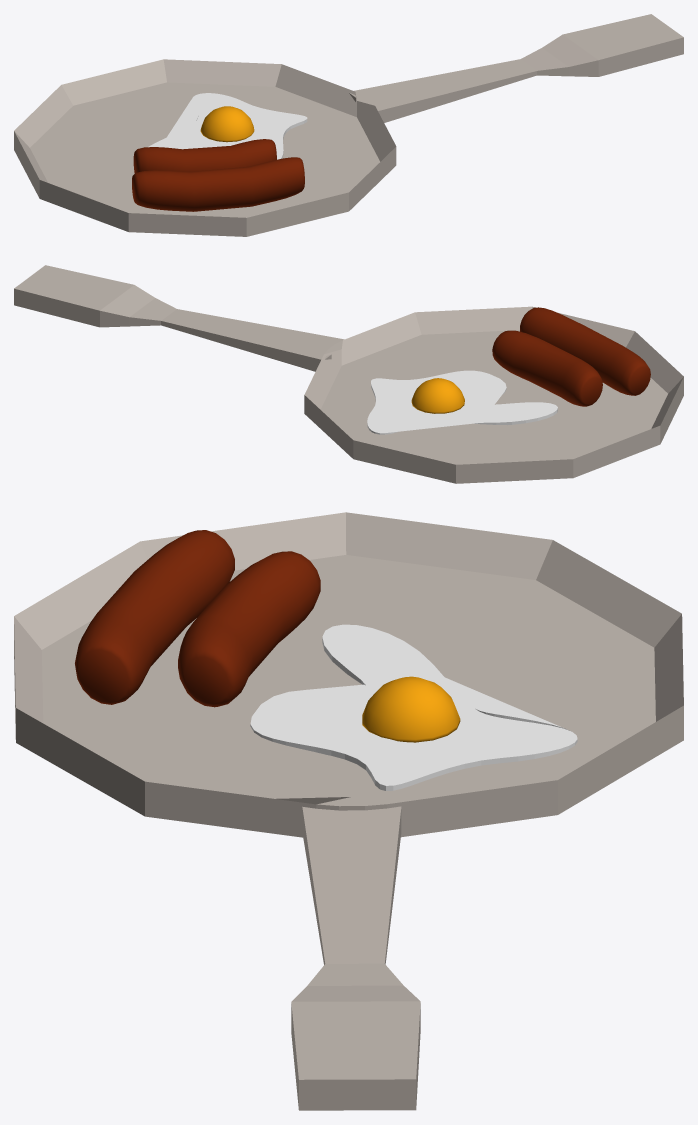
Rendered from Pan.fbx.
3 views of the same model, one above another, from view 1: azimuth 30°, elevation 25°; view 2: azimuth 150°, elevation 25°; view 3: azimuth 270°, elevation 25° (orthographic). The views are drawn at different scales.
Parts seen in each view (by area): view 1: Sphere.012; view 2: Sphere.012; view 3: Sphere.012.
Boxes of the visible parts, left/top/right/bottom form: Sphere.012: left=14, top=14, right=683, bottom=236; Sphere.012: left=14, top=265, right=683, bottom=483; Sphere.012: left=14, top=512, right=683, bottom=1110.
Size of the model in its own units: 0.2609 by 0.0168 by 0.1311.
